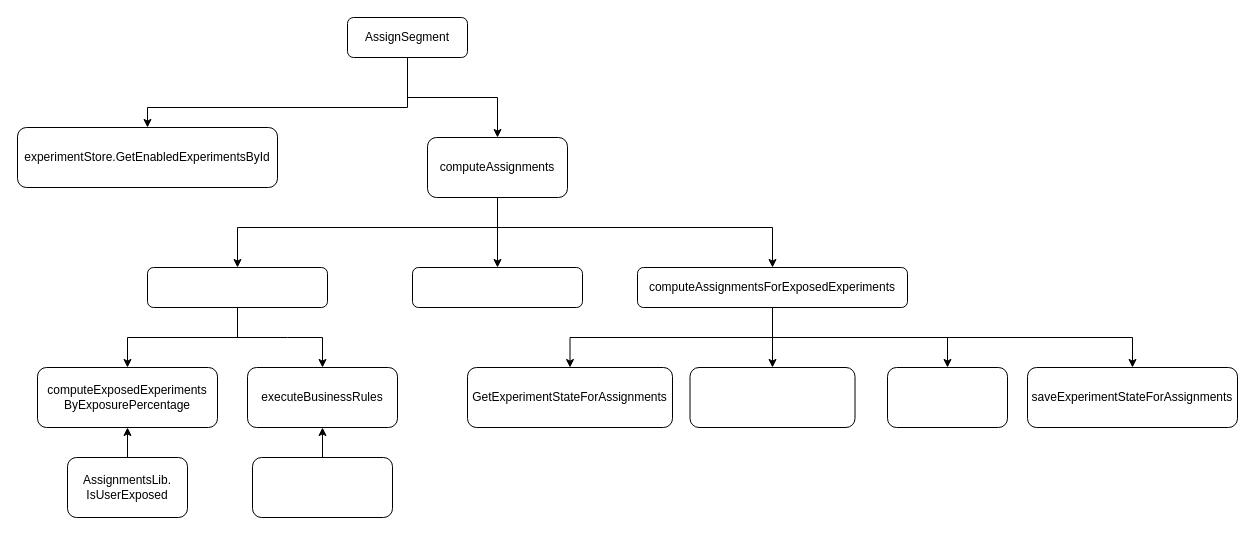
The diagram is 1255 pixels wide and 535 high, and some of its shapes have lost their labels. Here are the shapes that lost their labels. From the top down, the centre of each, then its label:
the point at 237,287: computeExposedExperiments
the point at 497,287: buildDefaultAssignment
the point at 772,397: overideExperimentSerial ForComputedAssignments
the point at 947,397: AssignmentsLib. ComputeAssignments
the point at 322,487: BusinessRulesLib. ExecuteBusinessRules
